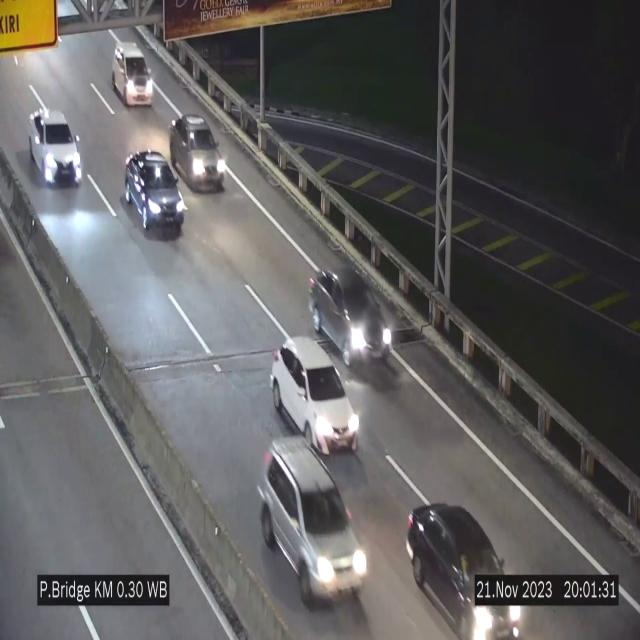Car: (403, 488, 529, 640), (260, 435, 368, 608), (271, 338, 359, 452), (310, 265, 392, 371), (124, 149, 184, 235), (169, 113, 226, 191), (29, 108, 82, 185), (112, 42, 154, 105)
